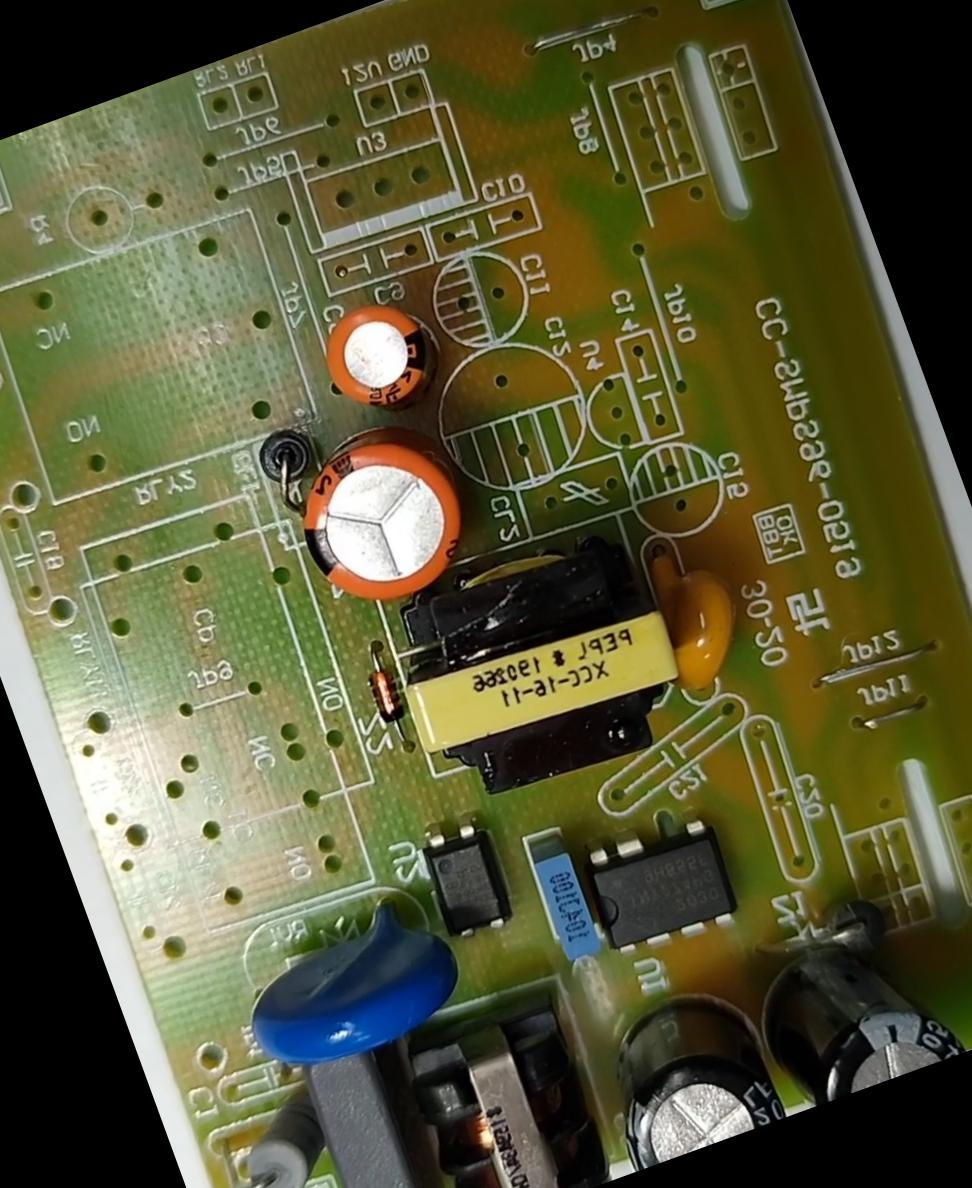Cap1: (274, 406, 492, 626)
Cap2: (306, 282, 446, 420)
Cap3: (575, 962, 788, 1172)
Cap4: (732, 907, 965, 1116), (219, 1085, 336, 1187)
MOSFET: (576, 810, 744, 965)
Mov: (214, 877, 474, 1090)
Transformer: (373, 514, 708, 826), (379, 971, 625, 1187)
